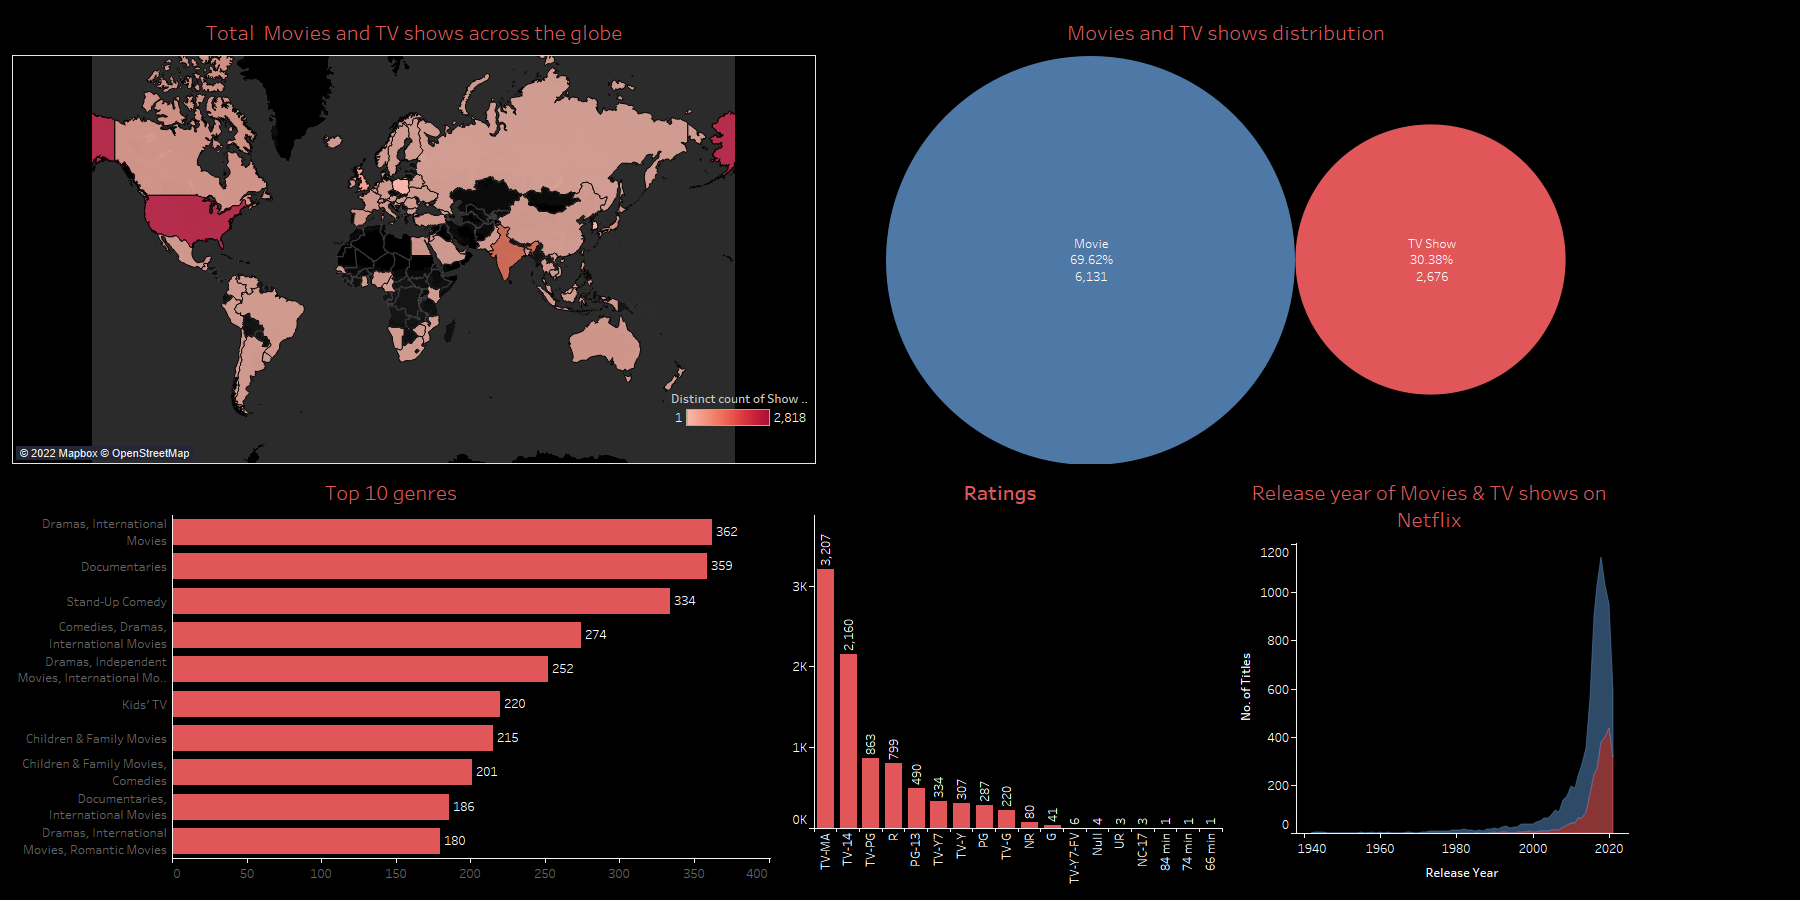

Layout of this report page (visuals, bound fields, positions):
{"tool":"tableau","page":{"name":"Netflix","canvas":[1800,900],"ordinal":0},"visuals":[{"type":"worksheet","title":"Total Movies and TV Shows by Country","mark":"Multipolygon","box":[8,8,812,460]},{"type":"worksheet","title":"Movies and TV shows distribution","mark":"Circle","box":[820,8,812,460]},{"type":"legend","title":"Total Movies and TV Shows by Country","param":"[federated.17vw50d1pzpj6f12se6ca0p1omgl].[ctd:show_id:qk]","box":[671,386,140,76]},{"type":"worksheet","title":"Top 10 genres","mark":"Automatic","rows":["listed_in"],"cols":["show_id"],"box":[8,468,766,424]},{"type":"worksheet","title":"Ratings","mark":"Automatic","rows":["show_id"],"cols":["rating"],"box":[774,468,452,424]},{"type":"worksheet","title":"Release year of Movies and TV Shows","mark":"Area","rows":["show_id"],"cols":["release_year"],"box":[1226,468,406,424]}]}

Visuals, with their boxes in screenshot pixels (x1, y1, x2, y2), scaled from the page's 1800x900 canvas onto the 1800x900 screenshot:
"Total Movies and TV Shows by Country" worksheet (Multipolygon marks): locate(8, 8, 820, 468)
"Movies and TV shows distribution" worksheet (Circle marks): locate(820, 8, 1632, 468)
"Total Movies and TV Shows by Country" legend: locate(671, 386, 811, 462)
"Top 10 genres" worksheet: locate(8, 468, 774, 892)
"Ratings" worksheet: locate(774, 468, 1226, 892)
"Release year of Movies and TV Shows" worksheet (Area marks): locate(1226, 468, 1632, 892)
